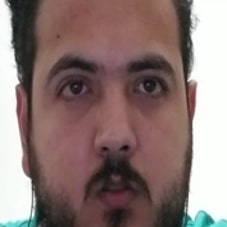drowsy: (43, 43, 181, 212)
